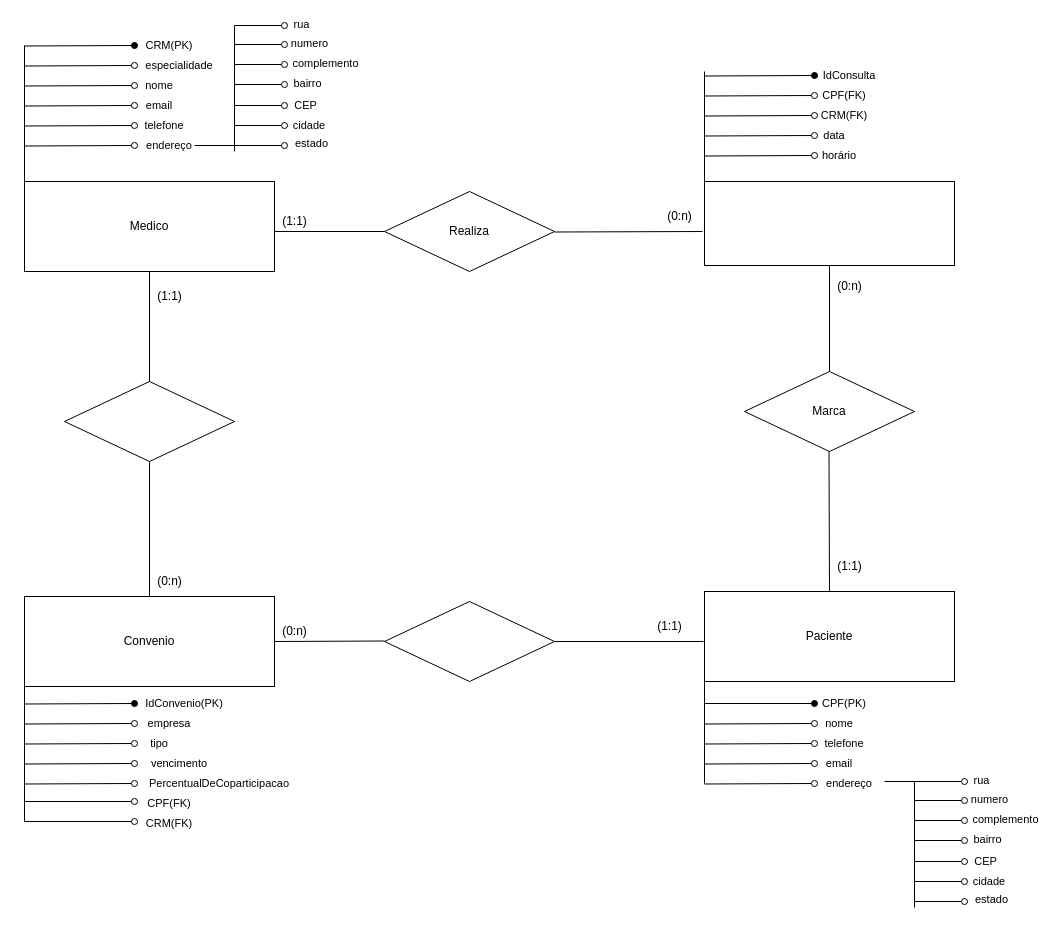
Some shapes in this 1056 by 928 pixel diagram are drawn without their labels. Here are the shapes that lost their labels. From the top down, the centre of each, then its label:
the point at 829,223: Consulta
the point at 149,421: Atende
the point at 469,641: Tem
